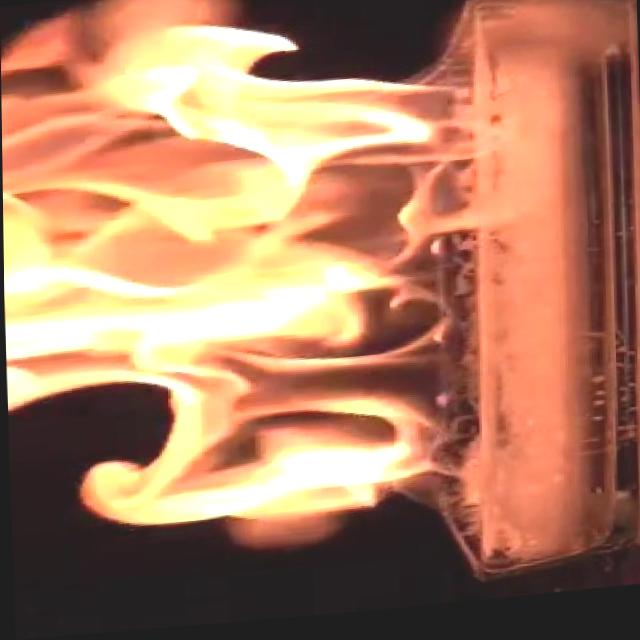Fire: (0, 0, 508, 551)
